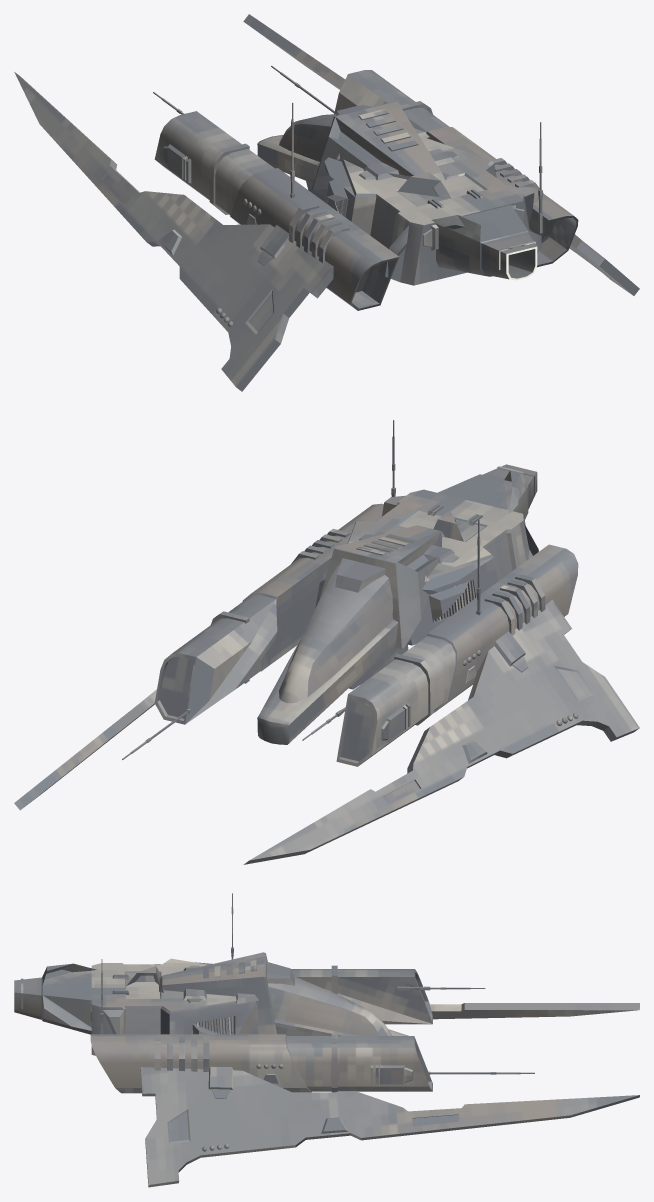
The model's file is striker.glb.
3 views of the same model, one above another, from view 1: azimuth 30°, elevation 25°; view 2: azimuth 150°, elevation 25°; view 3: azimuth 270°, elevation 25° (orthographic). The views are drawn at different scales.
Parts seen in each view (by area): view 1: Ship; view 2: Ship; view 3: Ship.
Part boxes in pixels (left/top/right/bottom): Ship: left=14, top=14, right=639, bottom=391; Ship: left=14, top=420, right=639, bottom=864; Ship: left=14, top=893, right=639, bottom=1187.
Size of the model in its own units: 5.38 by 2.87 by 9.
1 material, 1 textured.
